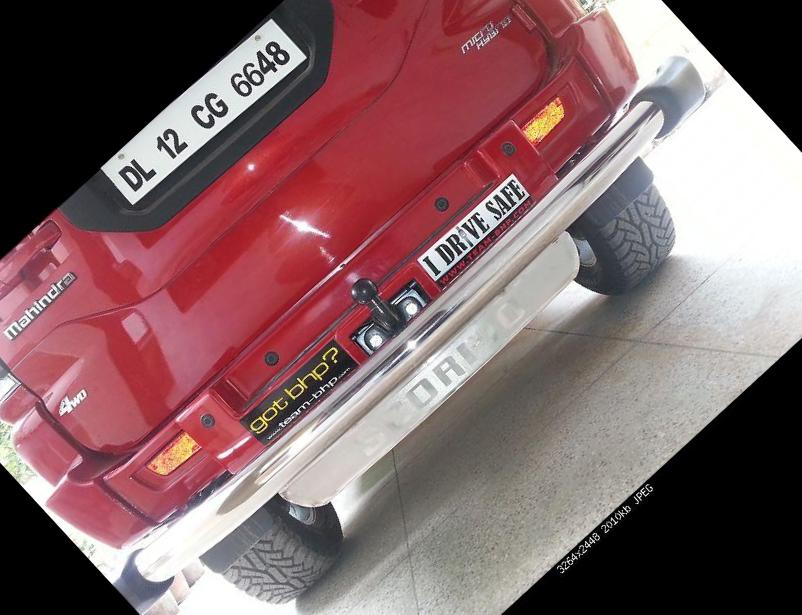plate: (100, 8, 318, 216)
